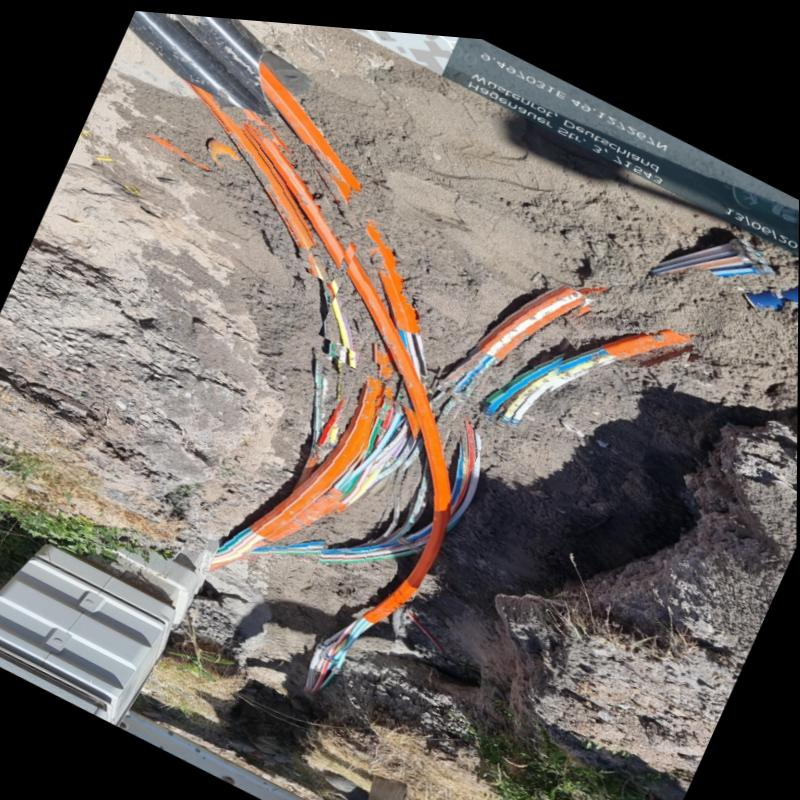Orang-Speednetrohrchen: (251, 117, 451, 662), (226, 372, 383, 551), (251, 392, 415, 546), (205, 99, 327, 277), (480, 319, 693, 420), (438, 278, 586, 392), (368, 216, 433, 381)
